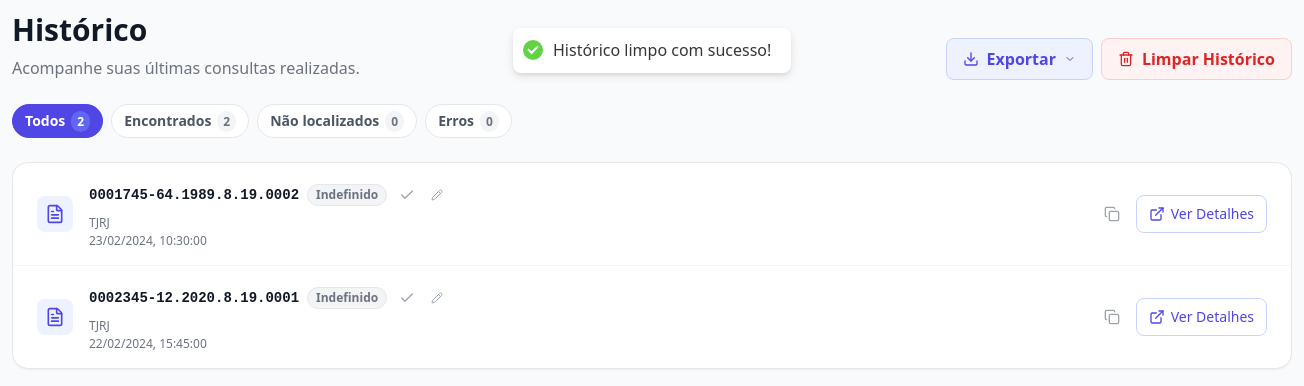
Scenario: HistoryTab Component › Clear History Functionality › TC-13: shows error toast on clear failure
expect the text "0001745-64.1989.8.19.0002" is shown: met, box x1=89 y1=185 x2=299 y2=205
# Click clear button
Click the button "Limpar Histórico": (1196, 59) x1=1101 y1=38 x2=1292 y2=80
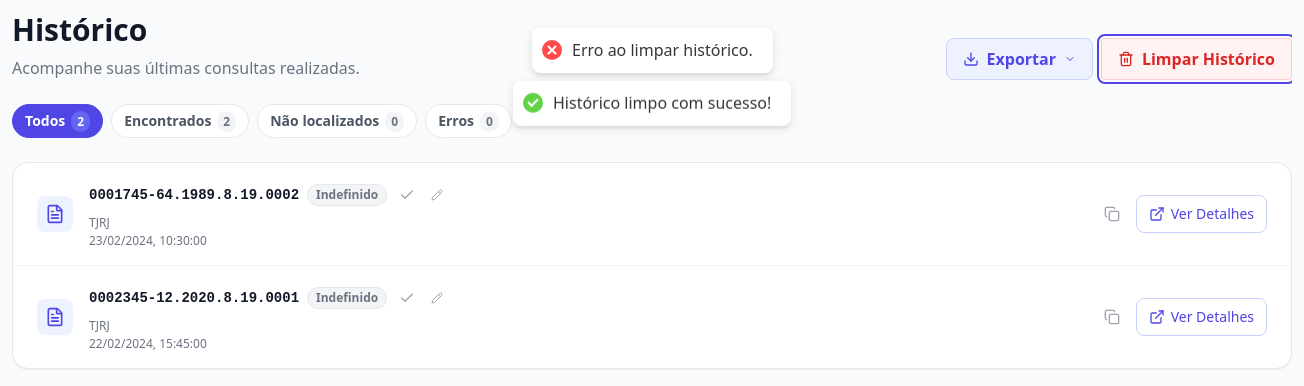
expect the text "Erro ao limpar histórico." is shown: met, box x1=572 y1=40 x2=752 y2=61
